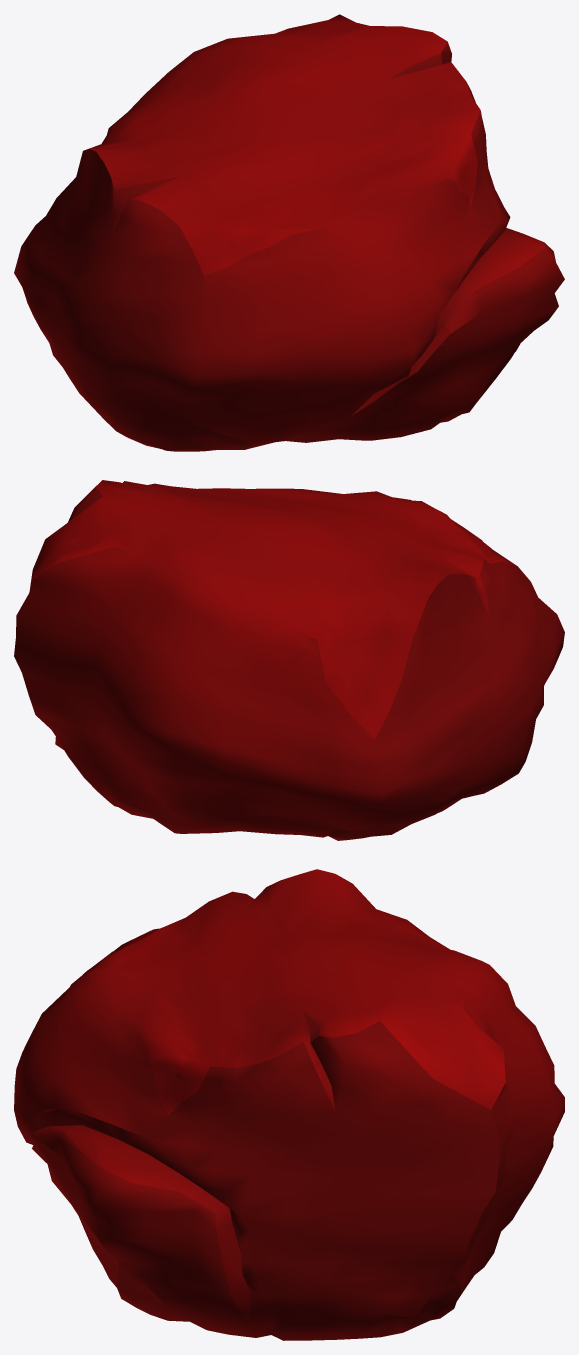
Rendered from geology-rocks-rockhuge_v10.fbx.
3 renders of one model, top to bottom at view 1: azimuth 30°, elevation 25°; view 2: azimuth 150°, elevation 25°; view 3: azimuth 270°, elevation 25°, orthographic. The views are drawn at different scales.
Parts seen in each view (by area): view 1: RockHuge_v10; view 2: RockHuge_v10; view 3: RockHuge_v10.
Part boxes in pixels (bbox=[...]): RockHuge_v10: bbox=[14, 14, 564, 451]; RockHuge_v10: bbox=[14, 480, 564, 840]; RockHuge_v10: bbox=[14, 869, 564, 1340].
Bounding box in the file's own units: 28.18 × 19.85 × 29.18.
